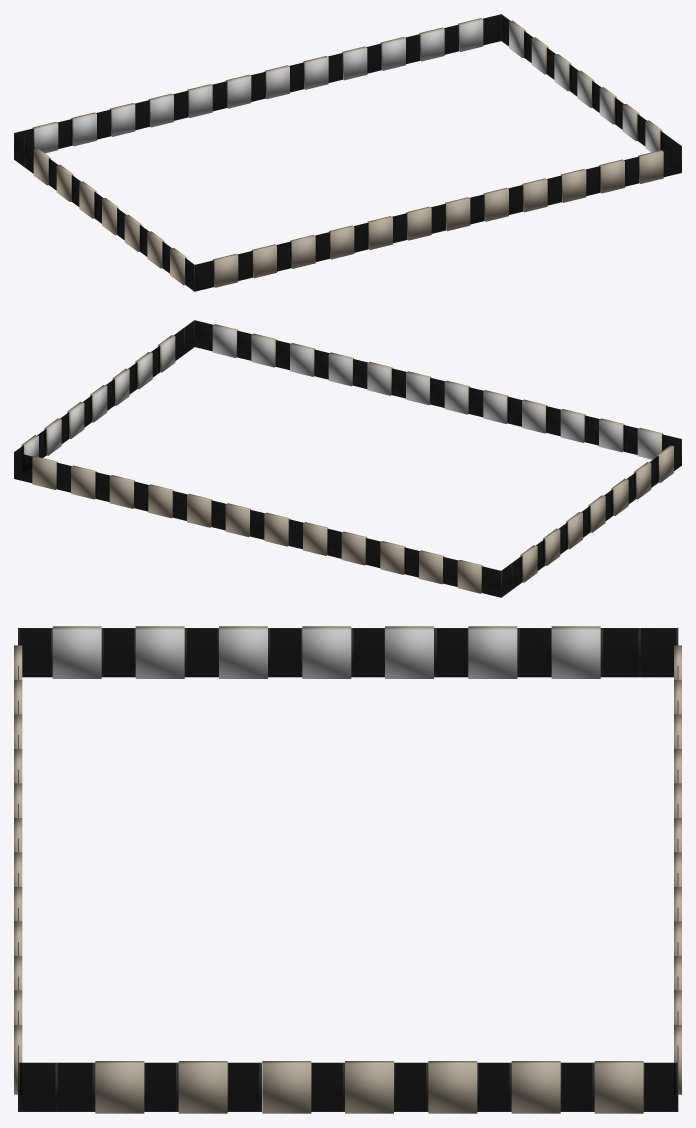
The model's file is PunchWindows_WWR20p_9ft.obj.
The picture shows the model from 3 angles, top to bottom: view 1: azimuth 30°, elevation 25°; view 2: azimuth 150°, elevation 25°; view 3: azimuth 270°, elevation 25°; orthographic projection. The views are drawn at different scales.
Visible parts, largest first — view 1: group_tintglass, group_Exterior_Envelope, group_InteriorPaint, group_Mullion, group_InteriorTransparent; view 2: group_tintglass, group_Exterior_Envelope, group_InteriorPaint, group_Mullion; view 3: group_tintglass, group_Exterior_Envelope, group_InteriorPaint, group_Mullion.
Part boxes in pixels (bbox=[...]): group_tintglass: bbox=[14, 14, 681, 291]; group_Exterior_Envelope: bbox=[32, 18, 663, 287]; group_InteriorPaint: bbox=[35, 20, 658, 153]; group_Mullion: bbox=[14, 14, 681, 291]; group_InteriorTransparent: bbox=[267, 67, 289, 99]; group_tintglass: bbox=[14, 320, 681, 597]; group_Exterior_Envelope: bbox=[21, 324, 673, 593]; group_InteriorPaint: bbox=[25, 326, 660, 459]; group_Mullion: bbox=[14, 320, 681, 597]; group_tintglass: bbox=[18, 628, 678, 1111]; group_Exterior_Envelope: bbox=[14, 626, 681, 1113]; group_InteriorPaint: bbox=[52, 629, 600, 678]; group_Mullion: bbox=[18, 627, 678, 1111].
Bounding box in the file's own units: 38.71 × 2.02 × 24.94.
